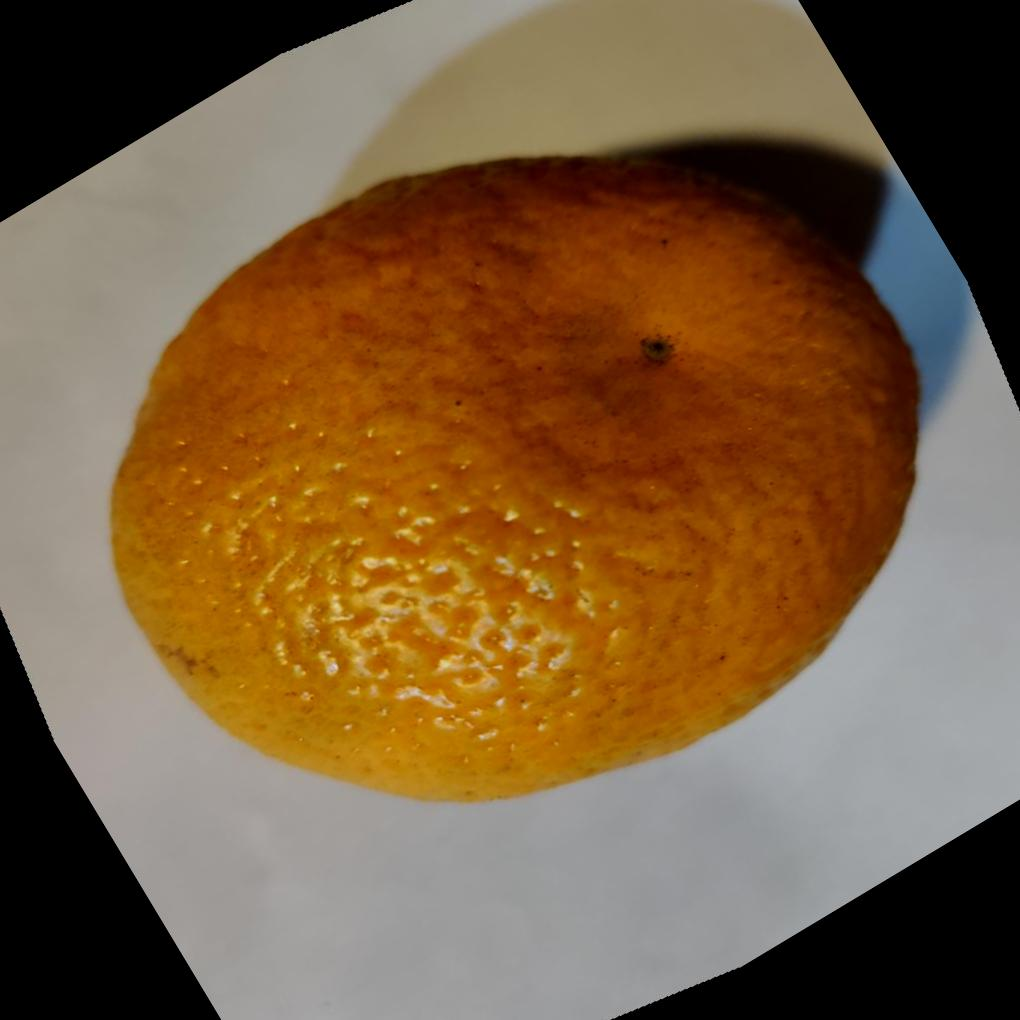FreshGuava: (107, 149, 924, 809)
